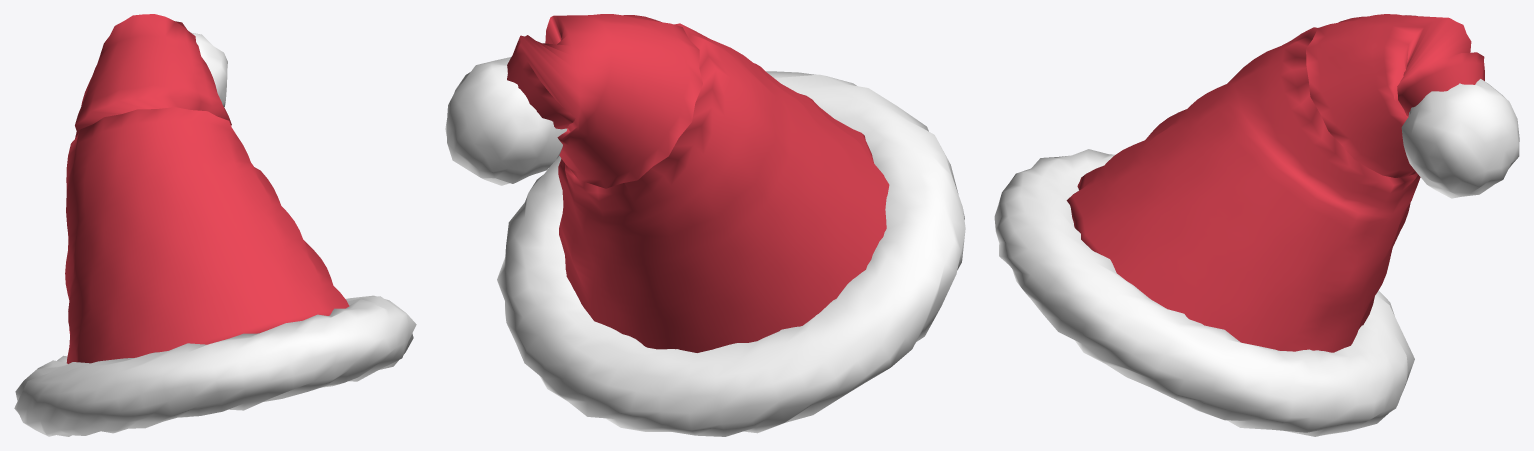
File: santa-hat.glb
The picture shows the model from 3 angles, left to right: view 1: azimuth 30°, elevation 25°; view 2: azimuth 150°, elevation 25°; view 3: azimuth 270°, elevation 25°; orthographic projection. The views are drawn at different scales.
Visible parts, largest first — view 1: SantaHat; view 2: SantaHat; view 3: SantaHat.
Boxes of the visible parts, x1,y1,x2,y2 form: SantaHat: (14, 14, 416, 436); SantaHat: (445, 14, 965, 436); SantaHat: (994, 14, 1519, 436).
Size of the model in its own units: 0.5759 by 0.5669 by 0.6736.
